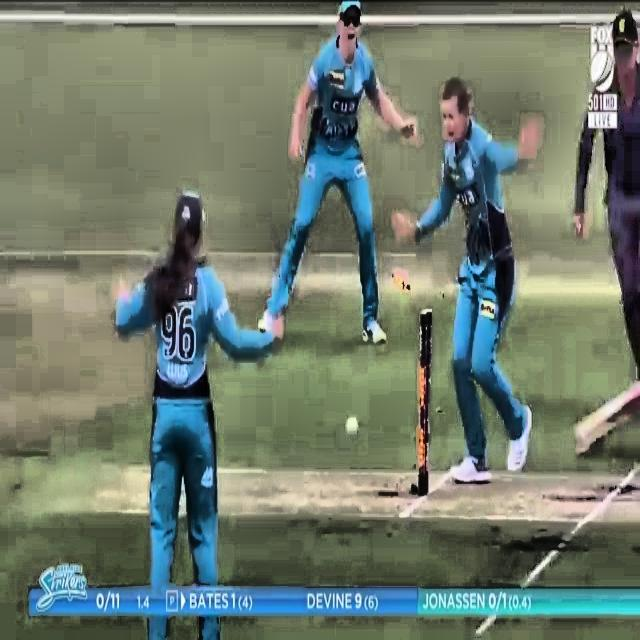Ball: (337, 400, 370, 443)
Dis_Wicket: (390, 265, 441, 512)
Pitch_Line: (473, 612, 499, 638)
